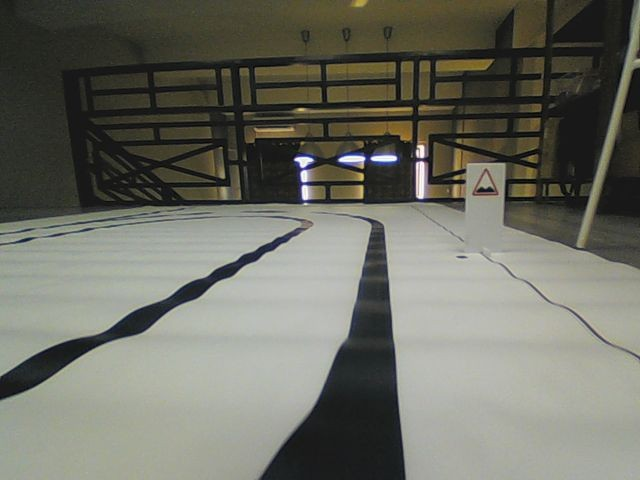Nerov: (471, 166, 499, 198)
